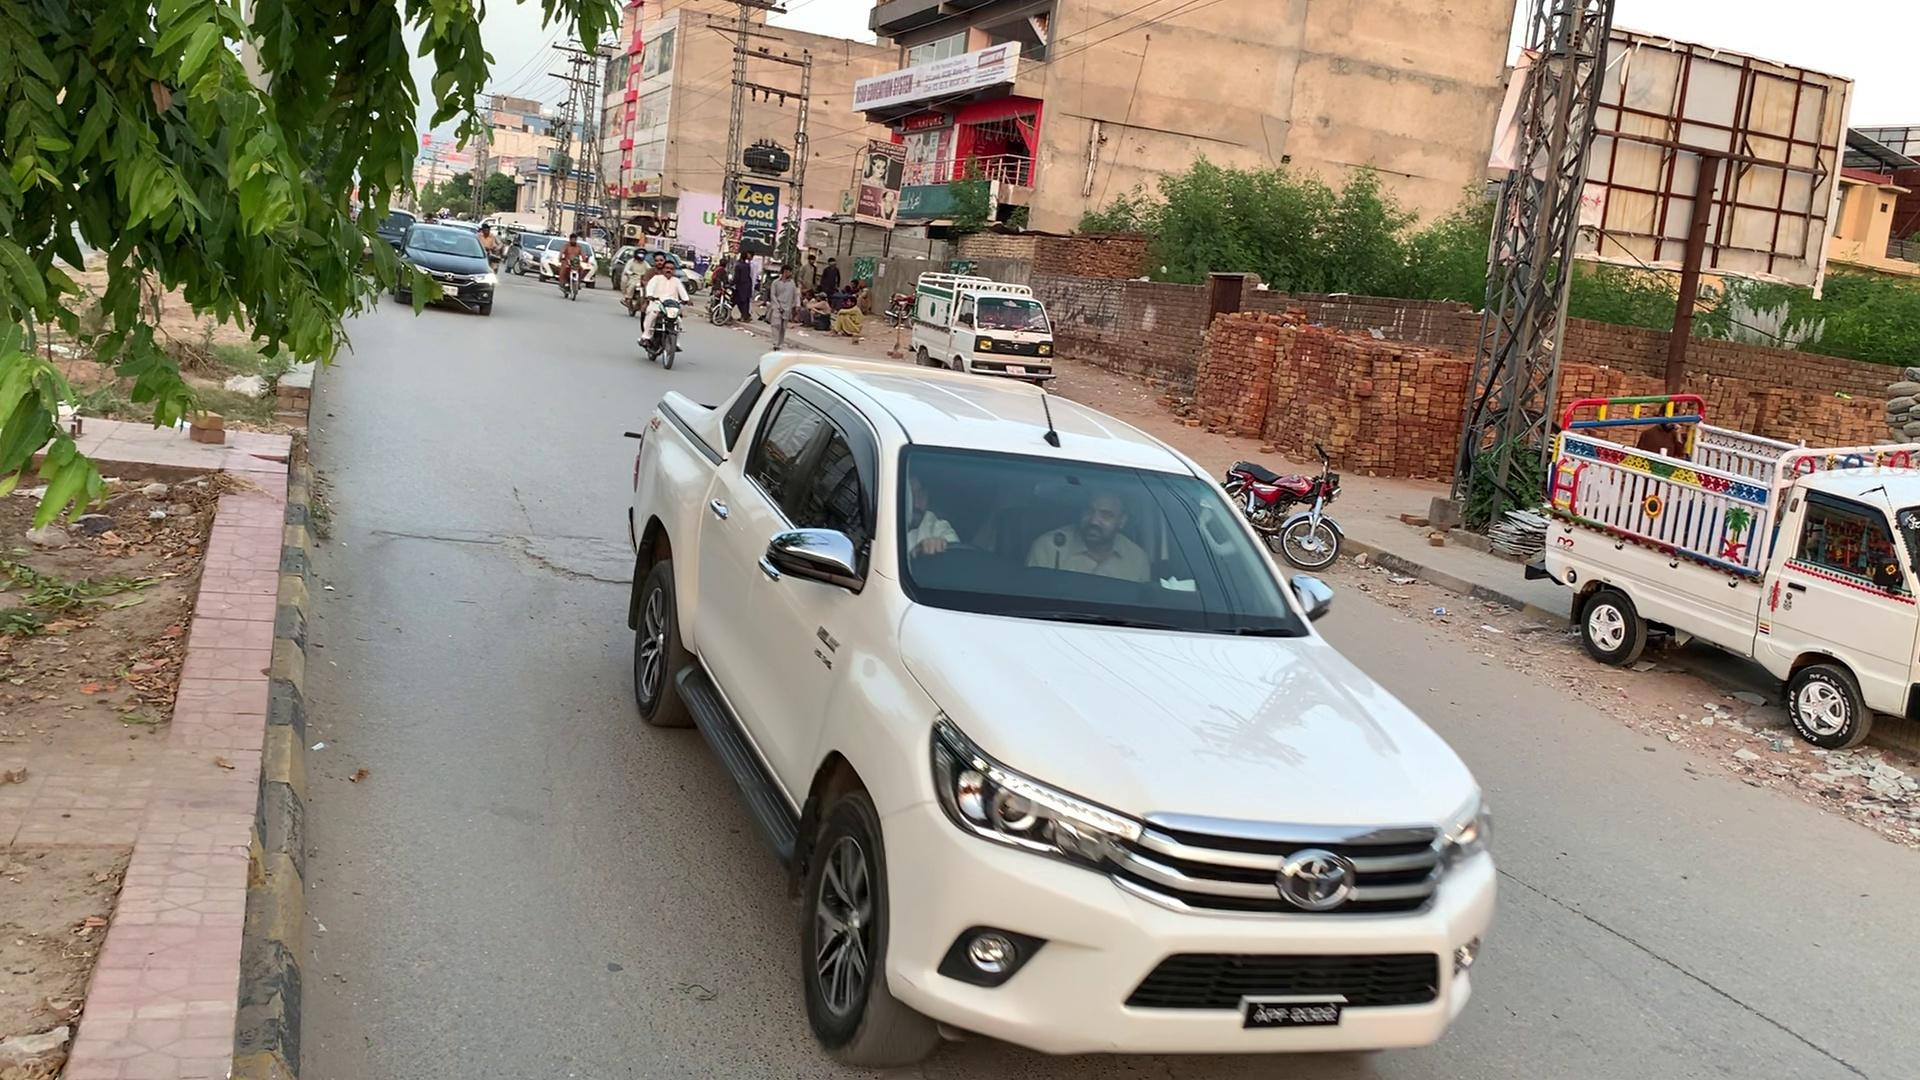windshield: (903, 423, 1311, 626)
